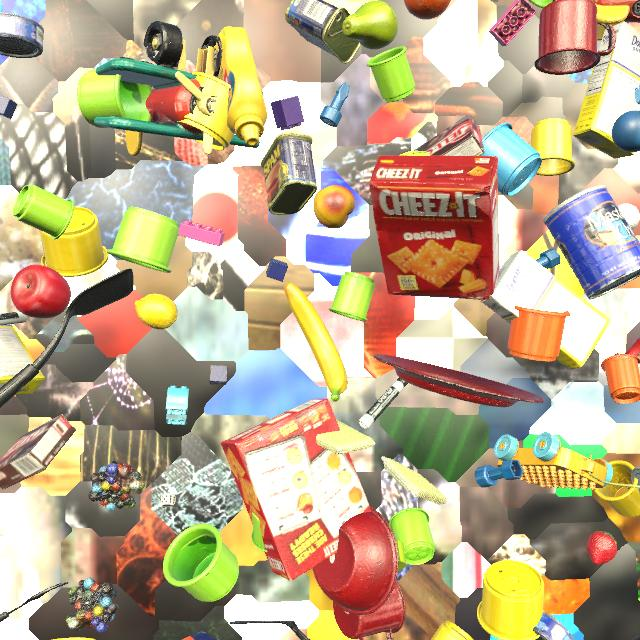ycb_002_master_chef_can: (543, 184, 640, 299), (631, 466, 640, 493)
ycb_003_cracker_box: (221, 398, 371, 581), (369, 155, 499, 300)
ycb_004_sugar_box: (481, 250, 611, 370), (573, 22, 640, 159), (0, 306, 45, 395)
ycb_006_mustard_bottle: (215, 27, 267, 146)
ycb_007_tuna_fish_can: (0, 13, 44, 58), (533, 611, 575, 640)
ycb_008_pudding_box: (0, 414, 76, 489), (414, 114, 484, 156)
ycb_010_potted_meat_can: (285, 0, 361, 64), (261, 132, 317, 215)
ycb_011_banana: (284, 282, 348, 402)
ycb_012_strawberry: (587, 531, 617, 565)
ycb_013_apple: (11, 264, 71, 318)
ycb_014_lemon: (135, 294, 178, 329)
ycb_015_peach: (313, 185, 356, 229)
ycb_016_pear: (342, 0, 398, 50)
ycb_017_orange: (404, 0, 451, 20)
